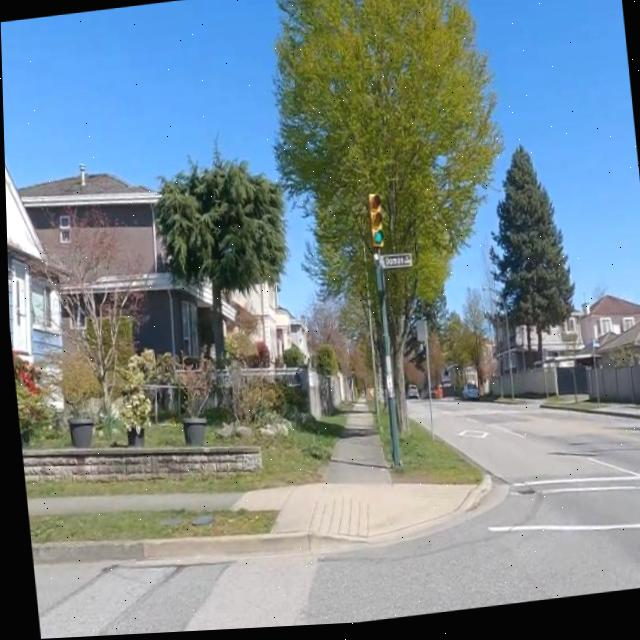Obstacle: (22, 421, 341, 496), (365, 197, 397, 472), (19, 449, 258, 481), (25, 512, 272, 541), (388, 424, 476, 488), (403, 431, 476, 487), (26, 517, 186, 540), (141, 423, 181, 447), (66, 419, 89, 447), (180, 420, 202, 446), (124, 428, 140, 448), (90, 433, 108, 447), (203, 433, 222, 445), (113, 434, 121, 444)
Road: (29, 404, 640, 639)
Sidewalk: (23, 395, 478, 547)
